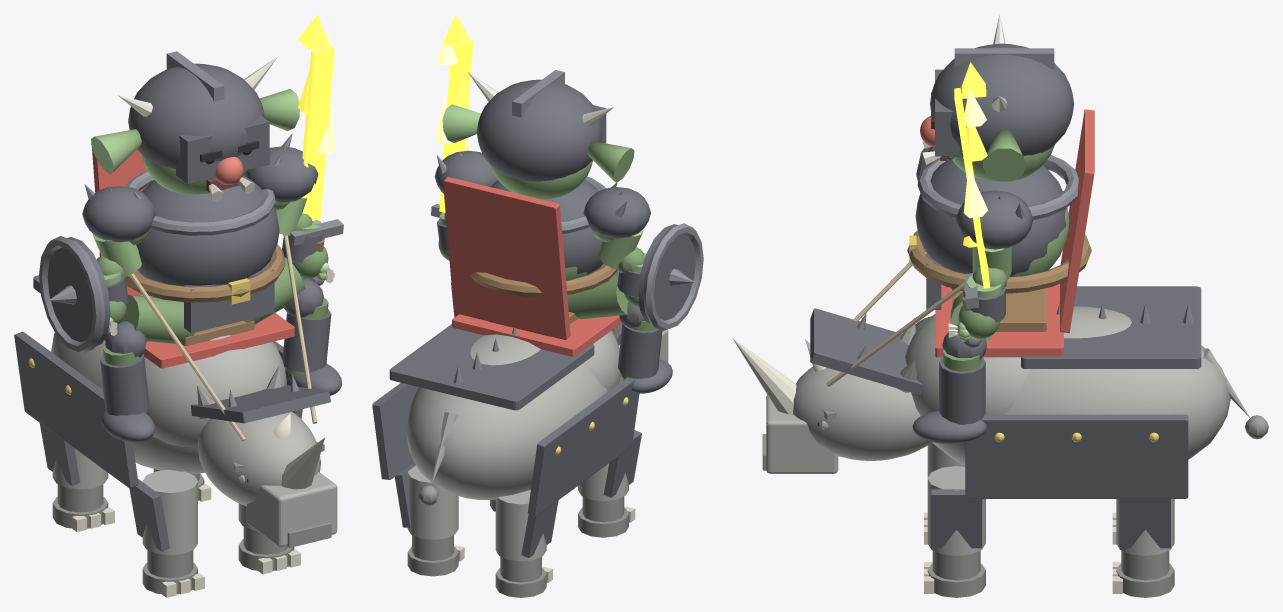
Rendered from troll_rhino.glb.
The picture shows the model from 3 angles, left to right: view 1: azimuth 30°, elevation 25°; view 2: azimuth 150°, elevation 25°; view 3: azimuth 270°, elevation 25°; orthographic projection. The views are drawn at different scales.
Parts seen in each view (by area): view 1: RhinoKnight_Breastplate, RhinoKnight_Helmet, Rhino_SideSkirt, Rhino_Hump, Rhino_Head, Rhino_Snout, RhinoKnight_Shield, Rhino_UpperLeg, RhinoKnight_Blade, RhinoKnight_Pauldron, Rhino_Body, Rhino_HeadPlate (+43 smaller); view 2: Rhino_Body, RhinoKnight_Cape, RhinoKnight_Helmet, Rhino_BackPlate, Rhino_SideSkirt, Rhino_SideSkirt.001, RhinoKnight_Shield, Rhino_Blanket, RhinoKnight_Pauldron, RhinoKnight_Breastplate, Rhino_UpperLeg.003, RhinoKnight_ShieldRim (+28 smaller); view 3: Rhino_SideSkirt.001, Rhino_Body, Rhino_BackPlate, RhinoKnight_Helmet, Rhino_Head, RhinoKnight_Breastplate, Rhino_HeadPlate, Rhino_Hump, RhinoKnight_Cape, Rhino_Snout, Rhino_Blanket, RhinoKnight_Pauldron.001 (+26 smaller).
Boxes of the visible parts, x1,y1,x2,y2 form: RhinoKnight_Breastplate: (136,176,279,286); RhinoKnight_Helmet: (128,63,264,168); Rhino_SideSkirt: (14,331,138,488); Rhino_Hump: (144,335,286,447); Rhino_Head: (197,411,320,505); Rhino_Snout: (246,471,337,546); RhinoKnight_Shield: (47,237,110,346); Rhino_UpperLeg: (142,470,197,555); RhinoKnight_Blade: (302,45,334,220); RhinoKnight_Pauldron: (82,186,155,242); Rhino_Body: (51,295,204,473); Rhino_HeadPlate: (191,384,330,423); Rhino_Body: (406,334,607,499); RhinoKnight_Cape: (443,177,570,339); RhinoKnight_Helmet: (476,79,602,181); Rhino_BackPlate: (389,324,594,410); Rhino_SideSkirt: (527,377,639,516); Rhino_SideSkirt.001: (372,383,418,479); RhinoKnight_Shield: (638,224,695,324); Rhino_Blanket: (452,314,621,356); RhinoKnight_Pauldron: (583,187,650,238); RhinoKnight_Breastplate: (490,179,602,274); Rhino_UpperLeg.003: (407,465,458,539); RhinoKnight_ShieldRim: (643,223,703,331); Rhino_SideSkirt.001: (965,414,1188,498); Rhino_Body: (932,306,1230,465); Rhino_BackPlate: (1021,286,1201,368); RhinoKnight_Helmet: (930,43,1073,155); Rhino_Head: (793,366,931,460); RhinoKnight_Breastplate: (915,160,1066,276); Rhino_HeadPlate: (810,308,922,394); Rhino_Hump: (905,309,1030,415); RhinoKnight_Cape: (1060,109,1094,333); Rhino_Snout: (766,395,838,473); Rhino_Blanket: (935,283,1063,357); RhinoKnight_Pauldron.001: (956,190,1033,249).
Size of the model in its own units: 2.04 by 3.56 by 3.13.
